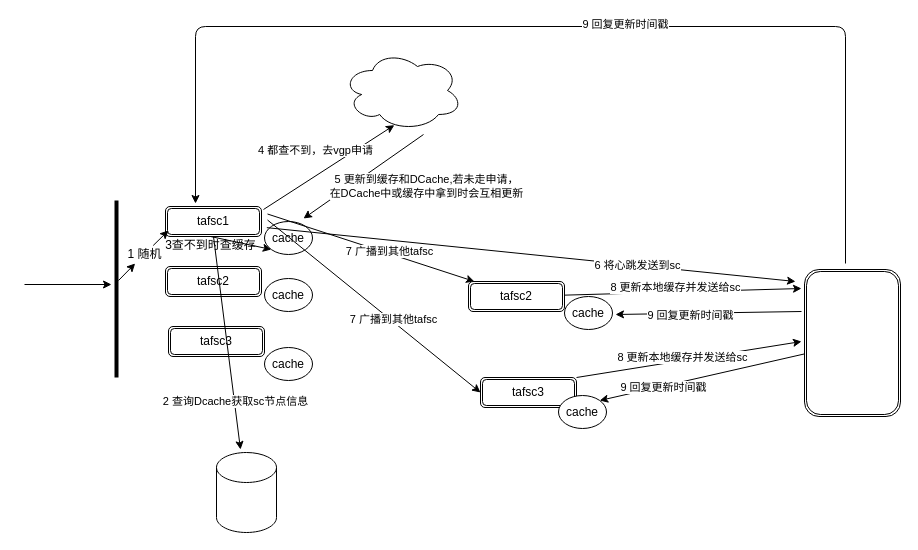
Image size: 918x550. Some labels were removed from this diagram. Here are the shapes that lost their labels. From the top down, the centre of each, then its label:
At point (402, 90): "vgp".
At point (852, 342): "sc1".
At point (246, 492): "DCache".
